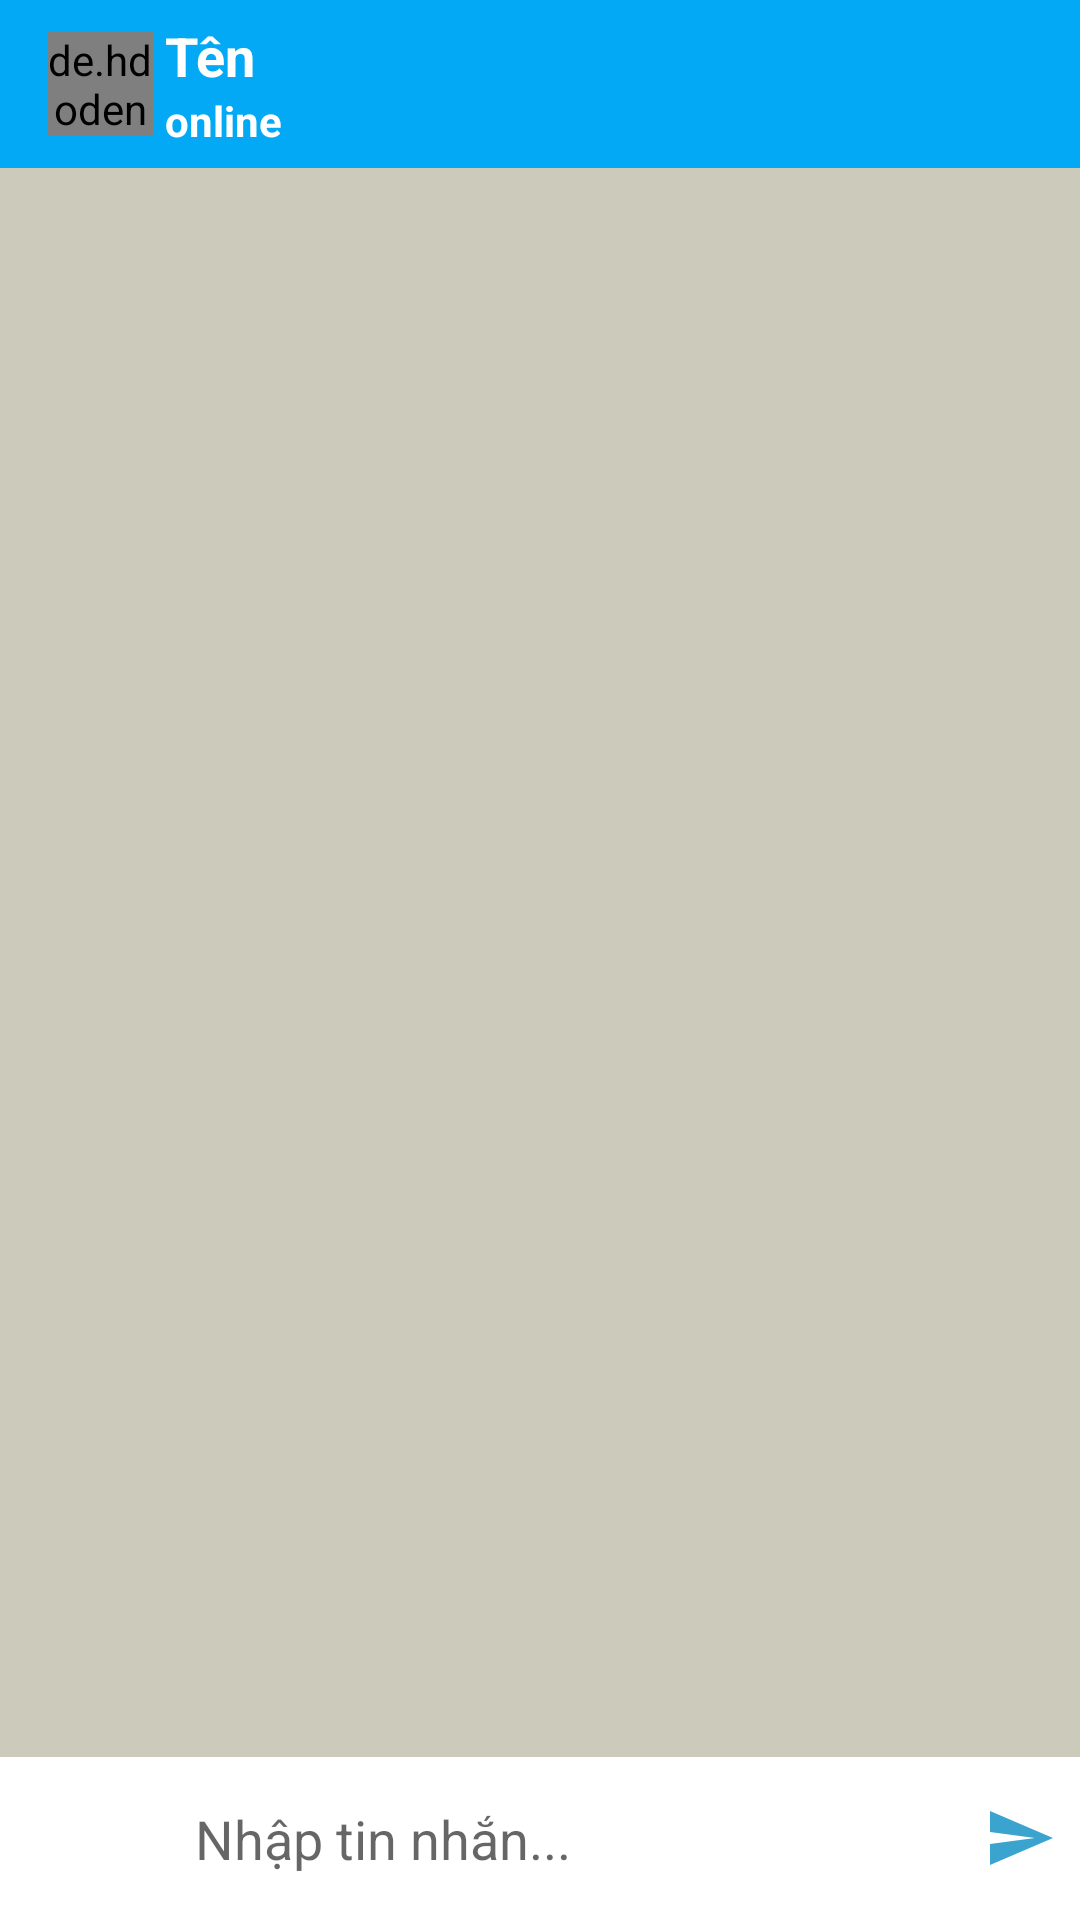

Icon click points for this 1080x1920 phone screenshot, format (x,y):
send: (1021,1838)
